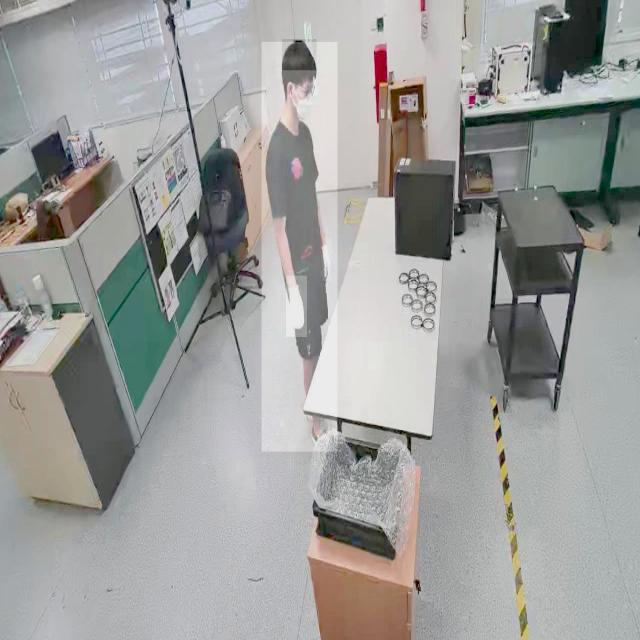face_mask: (294, 71, 320, 129)
glasses: (301, 83, 317, 104)
hand_glove: (285, 276, 307, 338), (322, 237, 332, 282)
head_nohelmet: (282, 39, 316, 71)
person: (261, 42, 337, 452)
